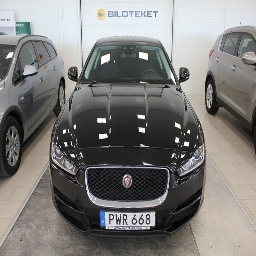sv_licence_plate: (98, 209, 156, 230)
